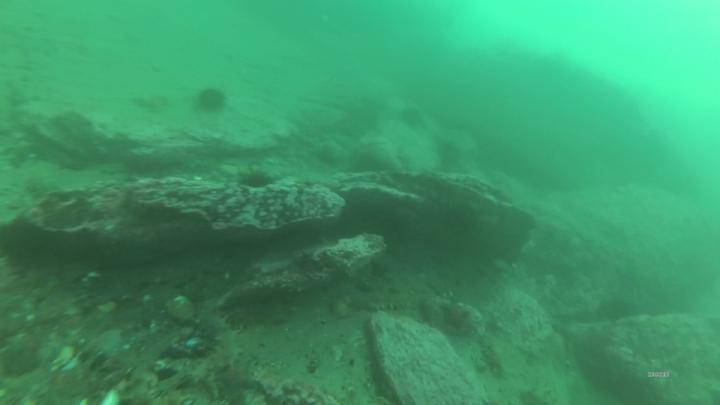echinus: (199, 89, 224, 114), (440, 140, 461, 162), (239, 174, 273, 187), (404, 107, 423, 127)
holothurian: (201, 313, 243, 368), (479, 336, 508, 377), (362, 292, 412, 313)
starfish: (439, 298, 471, 332)
